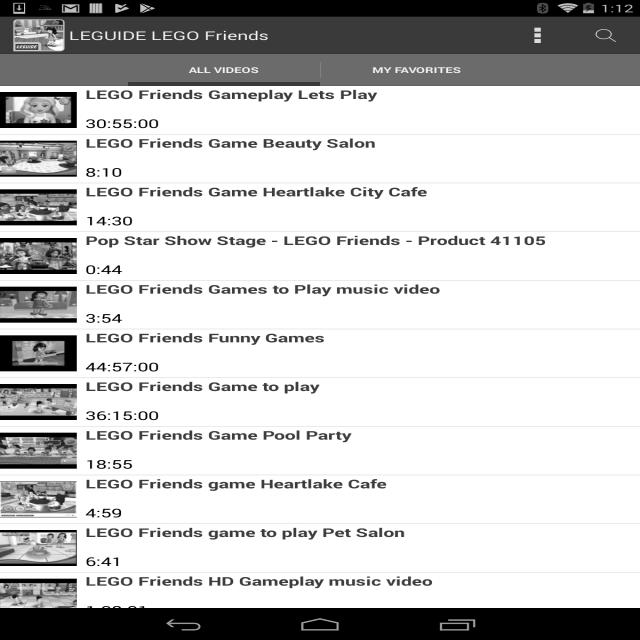ImageView: (0, 86, 77, 134), (0, 134, 77, 182), (0, 184, 77, 232), (0, 232, 77, 280), (0, 280, 77, 328), (0, 330, 77, 378), (0, 378, 77, 426), (0, 426, 77, 474), (0, 476, 77, 524), (0, 524, 77, 572), (0, 572, 77, 620), (14, 19, 64, 52)
TextView: (85, 232, 546, 248), (85, 183, 428, 200), (85, 281, 440, 297), (85, 573, 433, 589), (85, 475, 388, 492), (85, 524, 405, 540), (85, 86, 378, 102), (86, 135, 376, 151), (86, 427, 352, 443), (86, 329, 326, 346), (86, 378, 320, 394), (69, 27, 269, 43), (571, 16, 640, 54), (503, 17, 572, 54), (85, 102, 240, 115), (85, 151, 240, 164), (85, 248, 240, 261), (85, 297, 240, 310), (85, 394, 240, 407), (85, 443, 240, 456), (85, 540, 240, 553), (85, 589, 240, 602), (85, 200, 240, 212), (85, 346, 240, 358), (85, 492, 240, 504), (85, 358, 159, 375), (85, 115, 159, 131), (85, 407, 159, 423), (372, 64, 462, 76), (85, 602, 148, 618), (188, 64, 258, 76), (85, 212, 133, 229), (85, 456, 133, 472), (85, 504, 122, 521), (85, 164, 122, 180), (85, 261, 122, 277), (85, 310, 122, 326), (85, 553, 122, 569)
